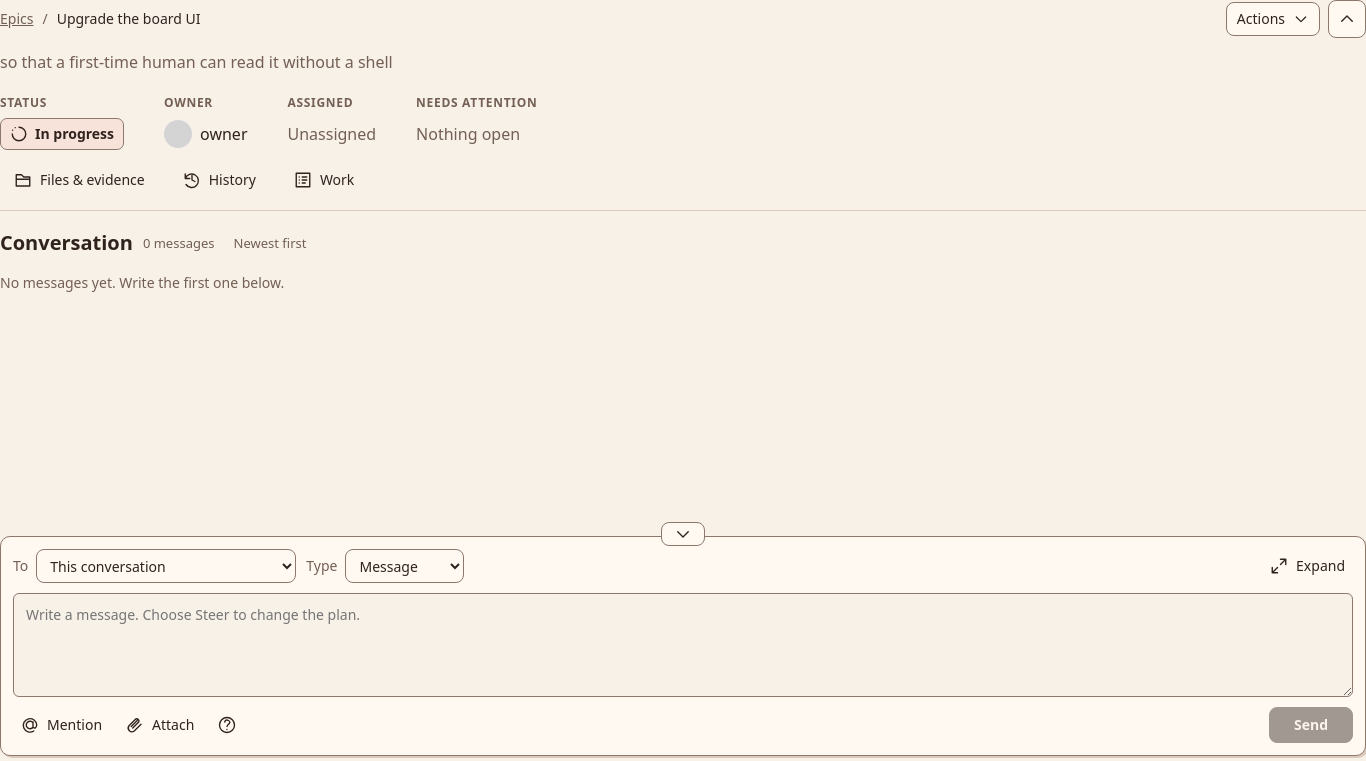
Test: EpicPage › Work carries the filter fold (status/work-type/assignee), the search and the kanban
Click the button with test id "work-work" at (324, 180), box [280,160,368,200]
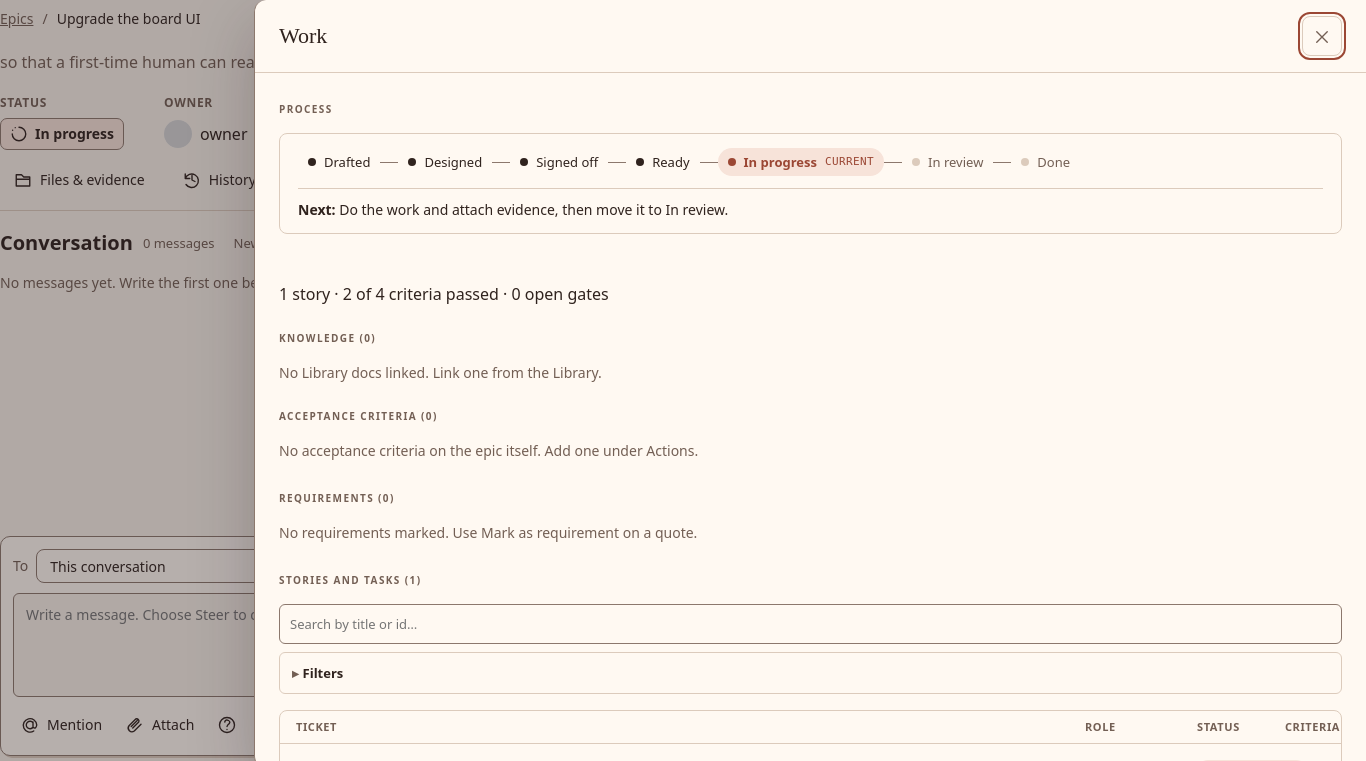
Result: the search field with test id "work-search" is shown at [279,604,1342,644]
Result: the element named "Assignee contains" is shown at [279,652,1342,694]
Result: the text "2 of 4 criteria passed" is shown at [279,283,609,305]
